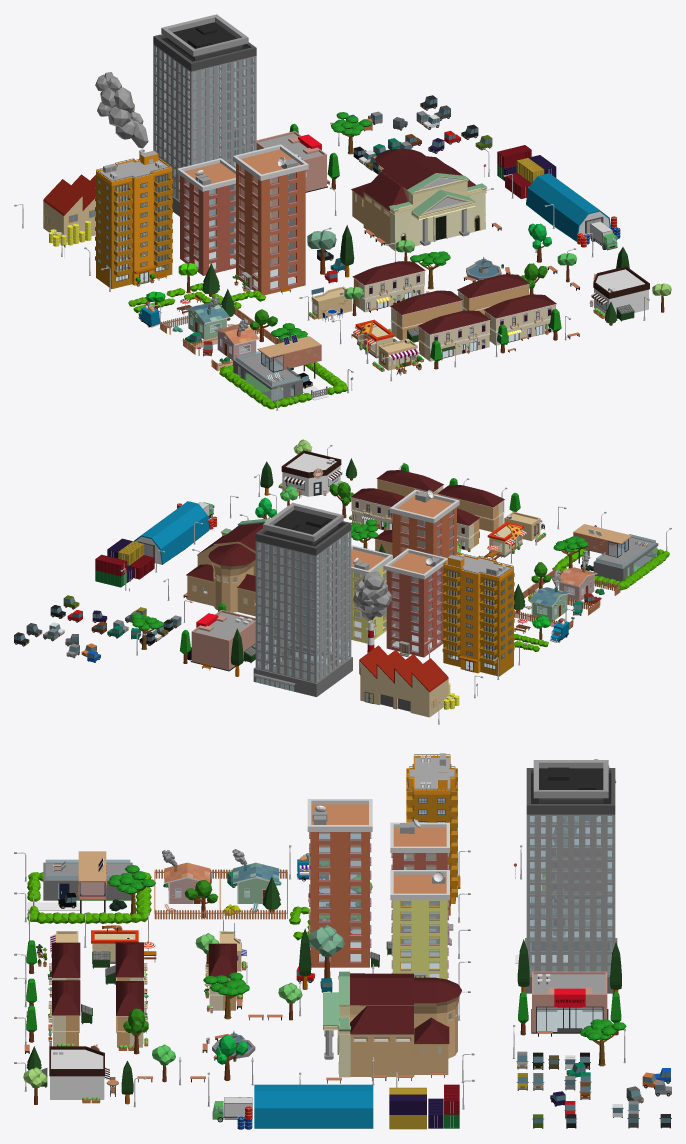
3 views of the same model, one above another, from view 1: azimuth 30°, elevation 25°; view 2: azimuth 150°, elevation 25°; view 3: azimuth 270°, elevation 25° (orthographic). The views are drawn at different scales.
Visible parts, largest first — view 1: Ufficio_Colore_0, Struttura_Colore_0, Condominio.001_Colore_0, Floor.001_Colore_0, Condominio.002_Colore_0, Ufficio_Vetro_0, Cube_Colore_0, Villa_Colore_0, Storage_Colore_0, Factory_Colore_0, Icosphere.002_Colore_0, Condominio.001_Vetro_0 (+27 smaller); view 2: Ufficio_Colore_0, Floor.001_Colore_0, Ufficio_Vetro_0, Factory_Colore_0, Condominio.002_Colore_0, Cube_Colore_0, Villa_Colore_0, SuperMarket_Colore_0, Storage_Colore_0, Condominio.001_Colore_0, Retro_Colore_0, Base.002_Colore_0 (+28 smaller); view 3: Ufficio_Colore_0, Struttura_Colore_0, Condominio.001_Colore_0, Storage_Colore_0, Ufficio_Vetro_0, Cube_Colore_0, Condominio_Colore_0, Villa_Colore_0, SuperMarket_Colore_0, Floor.001_Colore_0, Retro_Colore_0, Tetto.005_Colore_0 (+35 smaller).
Part boxes in pixels (x1,y1,x2,y2): Ufficio_Colore_0: [153, 44, 256, 206]; Struttura_Colore_0: [363, 154, 487, 250]; Condominio.001_Colore_0: [236, 163, 305, 295]; Floor.001_Colore_0: [95, 171, 172, 276]; Condominio.002_Colore_0: [180, 175, 235, 275]; Ufficio_Vetro_0: [155, 47, 254, 198]; Cube_Colore_0: [153, 14, 256, 71]; Villa_Colore_0: [233, 336, 321, 401]; Storage_Colore_0: [526, 173, 610, 241]; Factory_Colore_0: [43, 174, 126, 242]; Icosphere.002_Colore_0: [95, 72, 148, 148]; Condominio.001_Vetro_0: [240, 166, 295, 288]; Ufficio_Colore_0: [255, 530, 351, 682]; Floor.001_Colore_0: [442, 567, 514, 664]; Ufficio_Vetro_0: [258, 533, 349, 680]; Factory_Colore_0: [359, 645, 448, 717]; Condominio.002_Colore_0: [386, 566, 443, 657]; Cube_Colore_0: [255, 502, 351, 555]; Villa_Colore_0: [573, 524, 658, 581]; SuperMarket_Colore_0: [190, 610, 258, 671]; Storage_Colore_0: [134, 501, 209, 564]; Condominio.001_Colore_0: [392, 507, 456, 622]; Retro_Colore_0: [208, 543, 255, 612]; Base.002_Colore_0: [253, 643, 352, 696]; Ufficio_Colore_0: [526, 814, 615, 976]; Struttura_Colore_0: [323, 971, 414, 1077]; Condominio.001_Colore_0: [309, 832, 371, 967]; Storage_Colore_0: [254, 1084, 373, 1128]; Ufficio_Vetro_0: [530, 816, 612, 974]; Cube_Colore_0: [526, 760, 615, 814]; Condominio_Colore_0: [391, 900, 448, 979]; Villa_Colore_0: [43, 851, 132, 913]; SuperMarket_Colore_0: [531, 971, 608, 1033]; Floor.001_Colore_0: [406, 764, 457, 898]; Retro_Colore_0: [414, 977, 461, 1058]; Tetto.005_Colore_0: [307, 799, 372, 831].
Bounding box in the file's own units: 112 × 40.76 × 121.
Materials: 6 (4 with a texture image).
